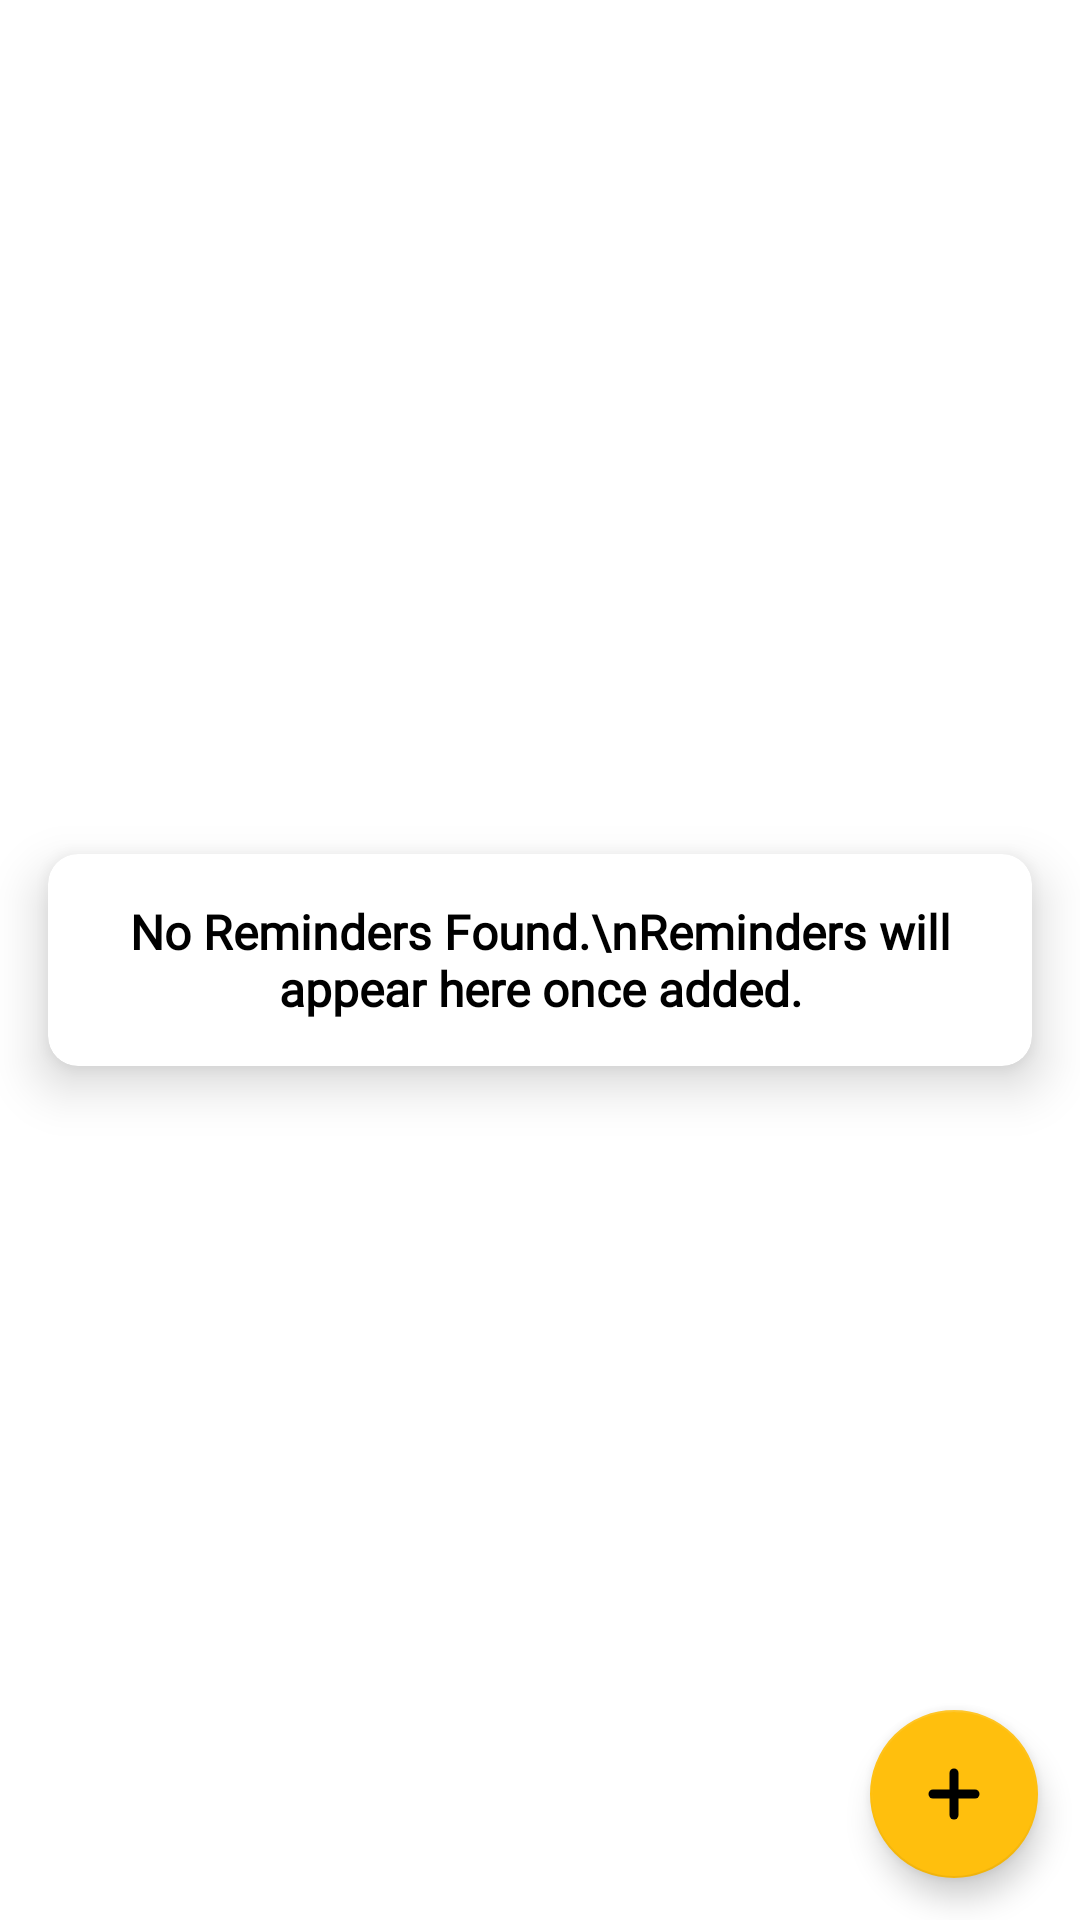

Screen size 1080px×1920px. Icon name, then its center in pixels as point (x, y):
plus: point (954, 1794)
